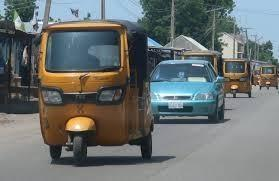keke: (36, 17, 158, 160), (224, 57, 252, 100), (258, 62, 278, 94)
